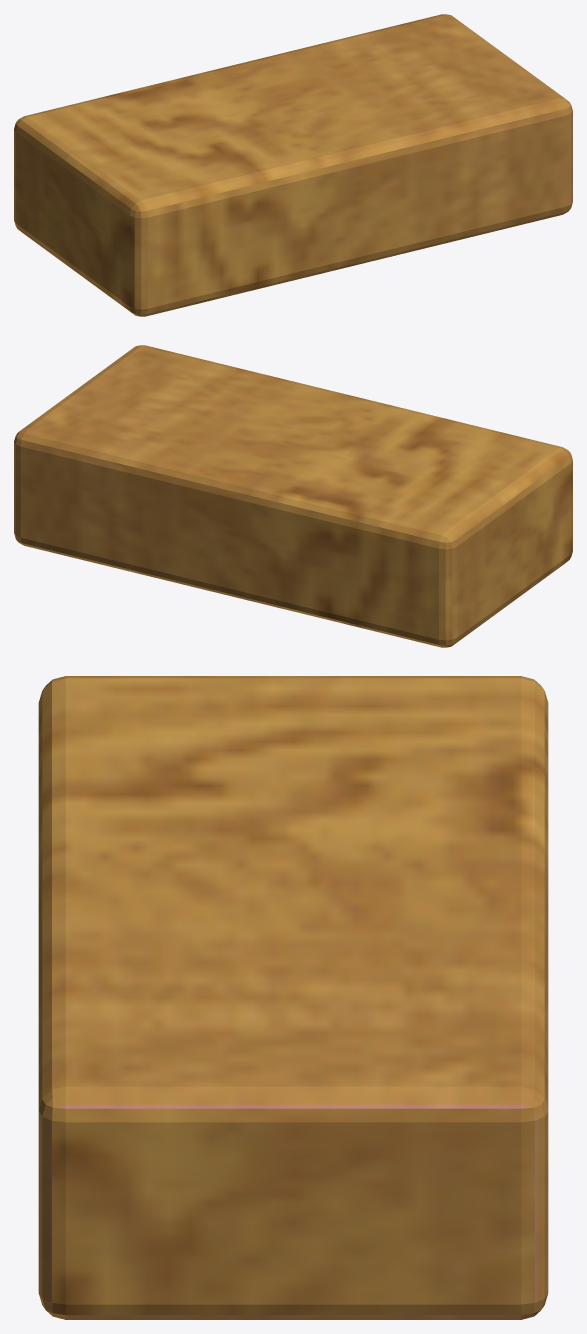
Rendered from BrownRectangle.fbx.
The picture shows the model from 3 angles, top to bottom: view 1: azimuth 30°, elevation 25°; view 2: azimuth 150°, elevation 25°; view 3: azimuth 270°, elevation 25°; orthographic projection. The views are drawn at different scales.
Visible parts, largest first — view 1: Cube.017; view 2: Cube.017; view 3: Cube.017.
Part boxes in pixels (x1,y1,x2,y2): Cube.017: (14,14,572,316); Cube.017: (14,345,572,647); Cube.017: (38,676,548,1319).
Size of the model in its own units: 800 by 200 by 400.
